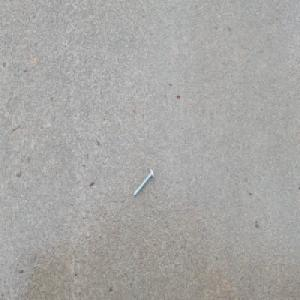Nail: (132, 167, 154, 198)
